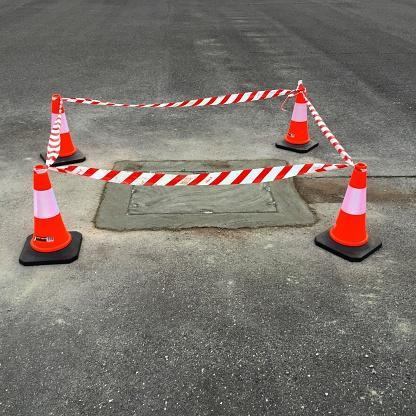Cone: (316, 165, 384, 261), (19, 166, 78, 263), (39, 93, 87, 169), (280, 90, 322, 154)
